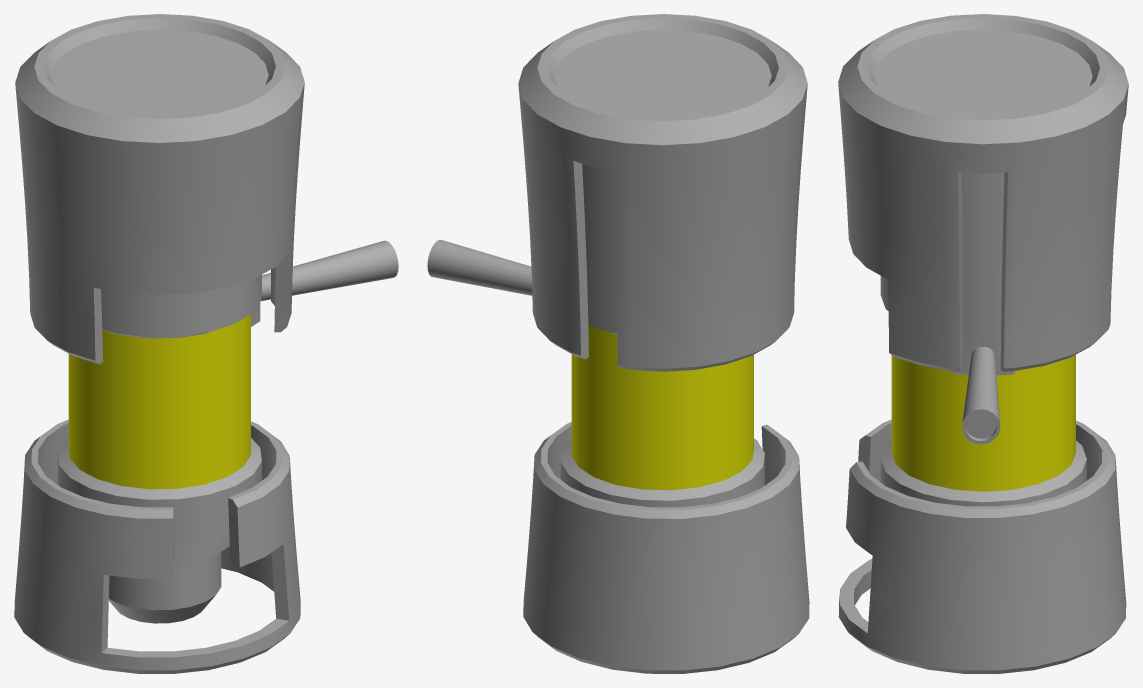
Rendered from SM_Coffee Machine_1.1.fbx.
3 views of the same model, side by side, from view 1: azimuth 30°, elevation 25°; view 2: azimuth 150°, elevation 25°; view 3: azimuth 270°, elevation 25° (orthographic).
Visible parts, largest first — view 1: polySurface250; view 2: polySurface250; view 3: polySurface250.
Part boxes in pixels (x1,y1,x2,y2): polySurface250: (14, 14, 398, 673); polySurface250: (427, 14, 809, 673); polySurface250: (838, 14, 1128, 673).
Bounding box in the file's own units: 34.46 × 50.99 × 24.37.
